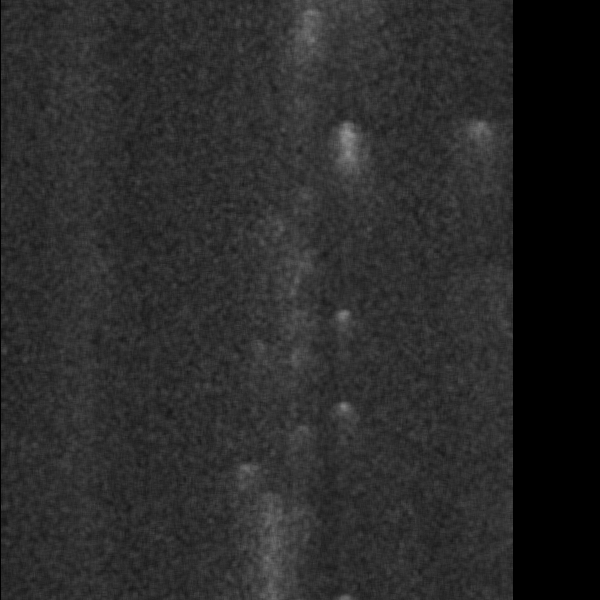spark: (107, 123, 154, 236), (325, 413, 361, 445)
